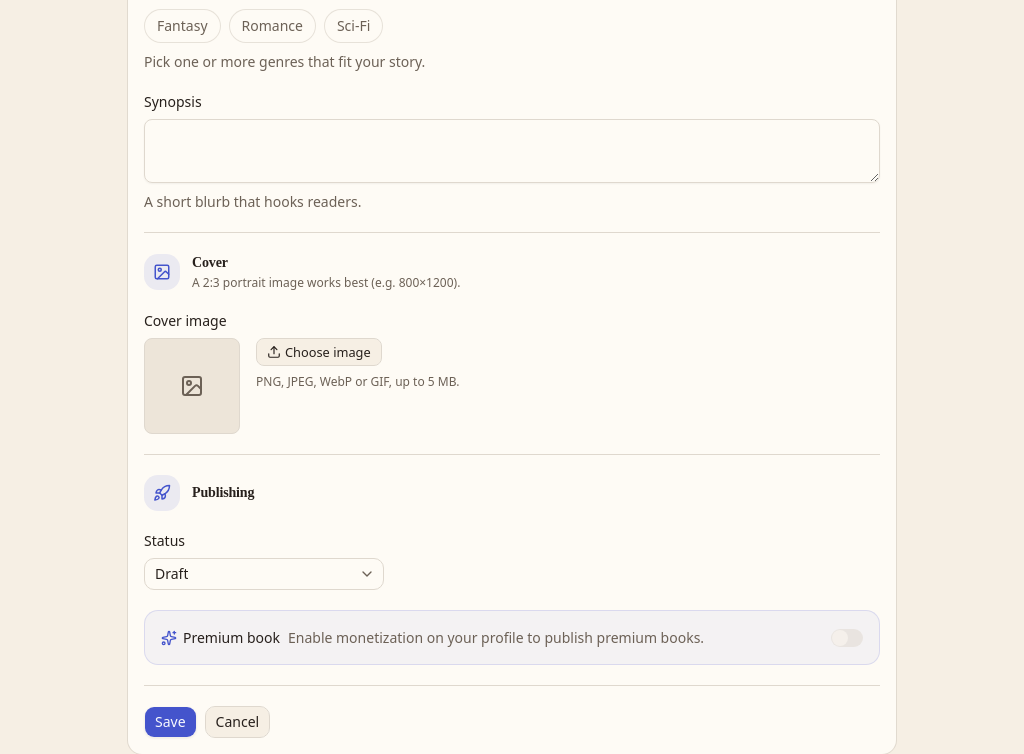
it: BookEditorPage › shows a validation error when title is left empty
(page scrolled)
Click the button "Save".
click(170, 722)  # box [144,706,197,738]
(page scrolled)
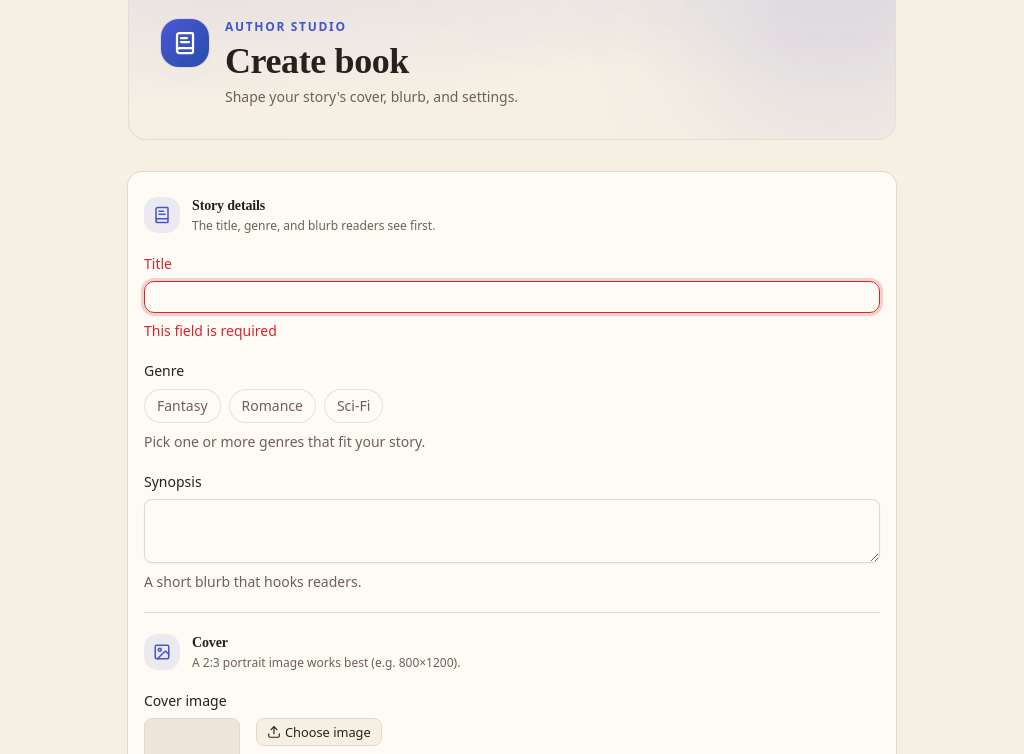
Expected: the text "This field is required" is shown, [144,321,277,340]
